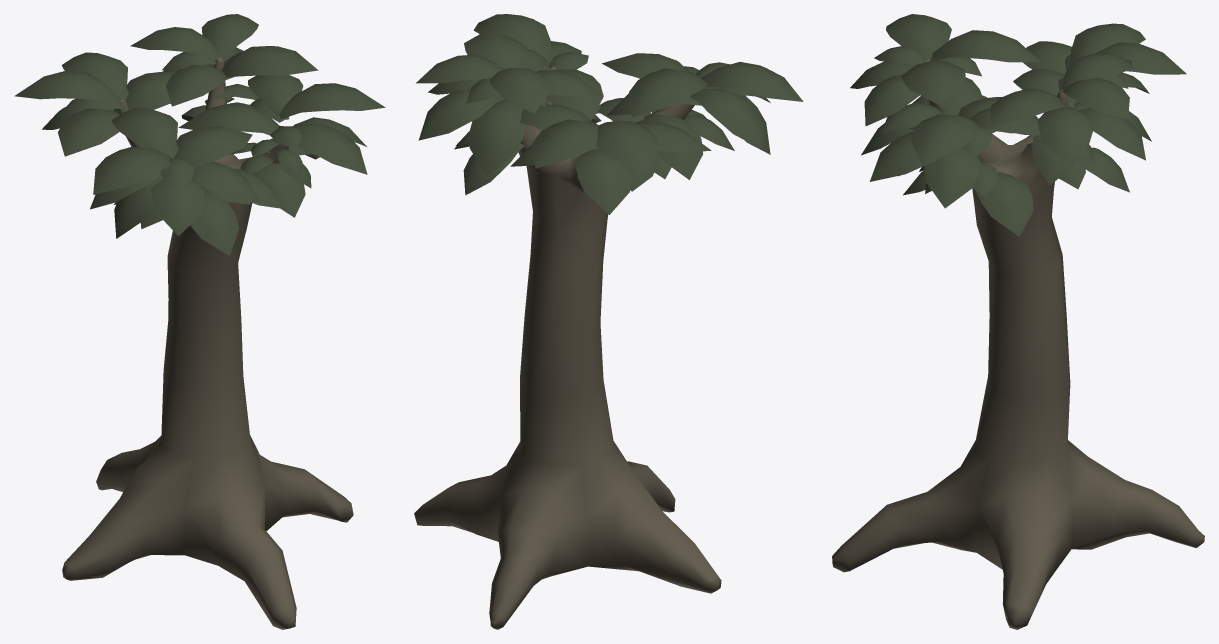
The model's file is tree.fbx.
3 renders of one model, left to right at view 1: azimuth 30°, elevation 25°; view 2: azimuth 150°, elevation 25°; view 3: azimuth 270°, elevation 25°, orthographic. The views are drawn at different scales.
Parts seen in each view (by area): view 1: pCylinder2, pPlane6; view 2: pCylinder2, pPlane6; view 3: pCylinder2, pPlane6.
Part boxes in pixels (x1,y1,x2,y2): pCylinder2: [62, 57, 353, 629]; pPlane6: [14, 14, 385, 255]; pCylinder2: [414, 66, 721, 629]; pPlane6: [416, 14, 803, 214]; pCylinder2: [832, 59, 1204, 629]; pPlane6: [850, 14, 1186, 236].
Bounding box in the file's own units: 7.6 × 11.7 × 7.61.
